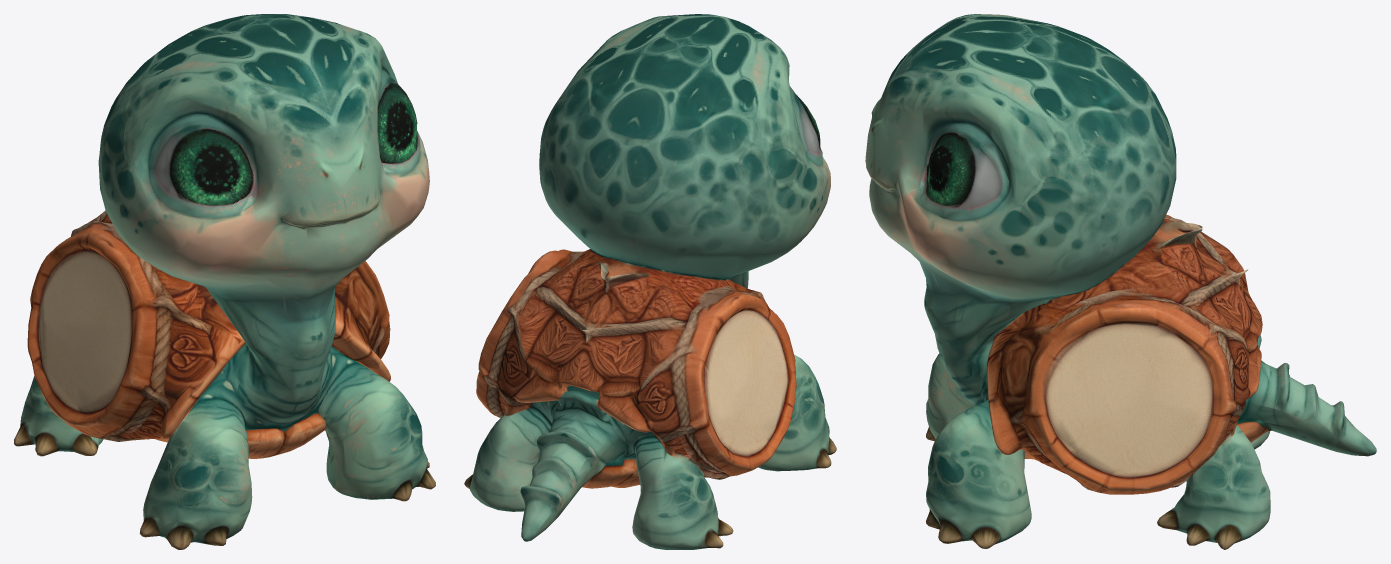
The picture shows the model from 3 angles, left to right: view 1: azimuth 30°, elevation 25°; view 2: azimuth 150°, elevation 25°; view 3: azimuth 270°, elevation 25°; orthographic projection. The views are drawn at different scales.
Parts seen in each view (by area): view 1: Mesh_0; view 2: Mesh_0; view 3: Mesh_0.
Boxes of the visible parts, <box> form: Mesh_0: <box>14,14,435,549</box>; Mesh_0: <box>464,14,836,549</box>; Mesh_0: <box>865,14,1376,549</box>.
Bounding box in the file's own units: 1.22 × 1.85 × 1.9.
Materials: 1 (1 with a texture image).
